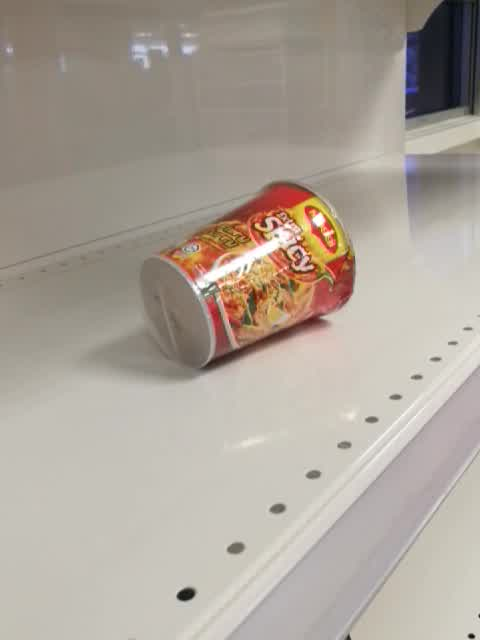maggi: (139, 179, 355, 371)
